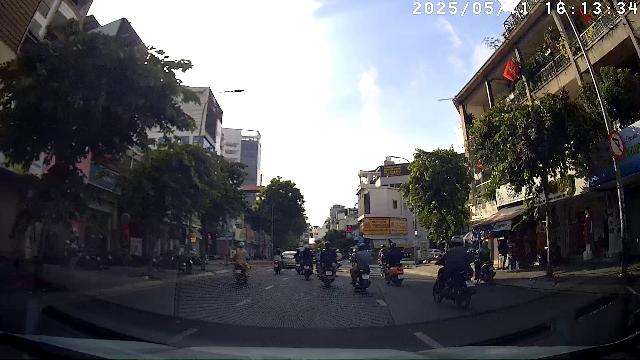123a-cam-re-trai: (607, 129, 625, 159)
